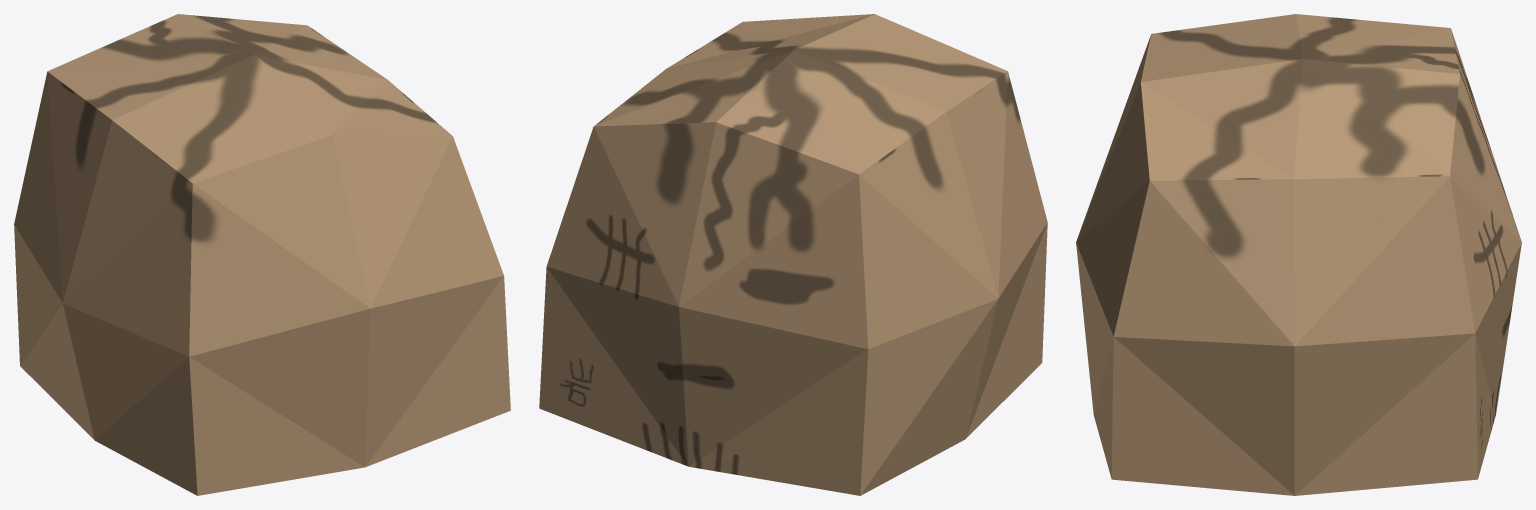
Rendered from Rock.obj.
3 renders of one model, left to right at view 1: azimuth 30°, elevation 25°; view 2: azimuth 150°, elevation 25°; view 3: azimuth 270°, elevation 25°, orthographic. The views are drawn at different scales.
Visible parts, largest first — view 1: 立方体; view 2: 立方体; view 3: 立方体.
Boxes of the visible parts, <box> form: 立方体: <box>14,14,510,495</box>; 立方体: <box>539,14,1047,495</box>; 立方体: <box>1076,14,1521,495</box>.
Bounding box in the file's own units: 1.82 × 1.53 × 1.75.
Materials: 1 (1 with a texture image).
